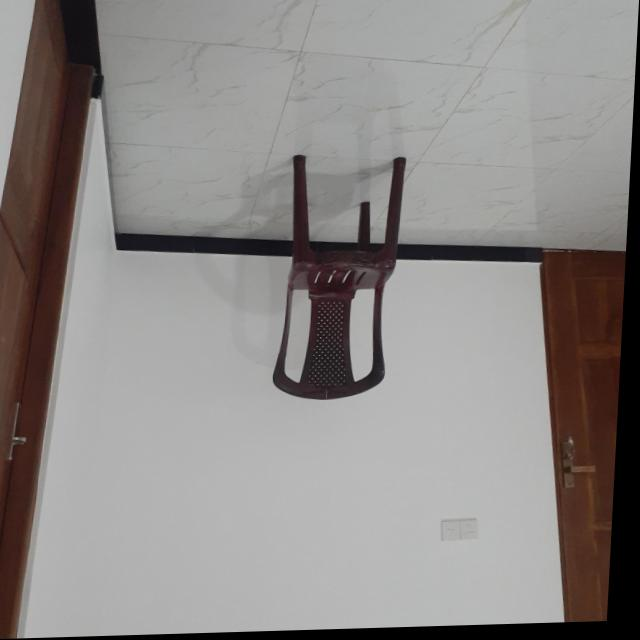Chair: (276, 153, 411, 406)
